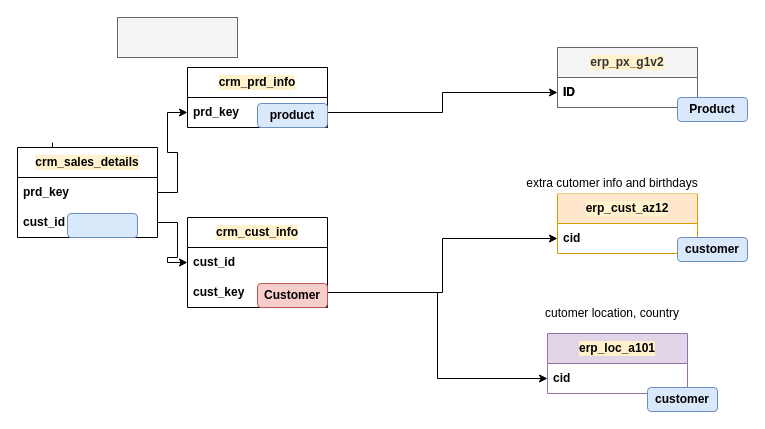
Image size: 765x429. Some labels were removed from this diagram. Here are the shapes that lost their labels. From the top down, the centre of each, then its label:
(x=177, y=37): CRM
(x=102, y=225): Sales
